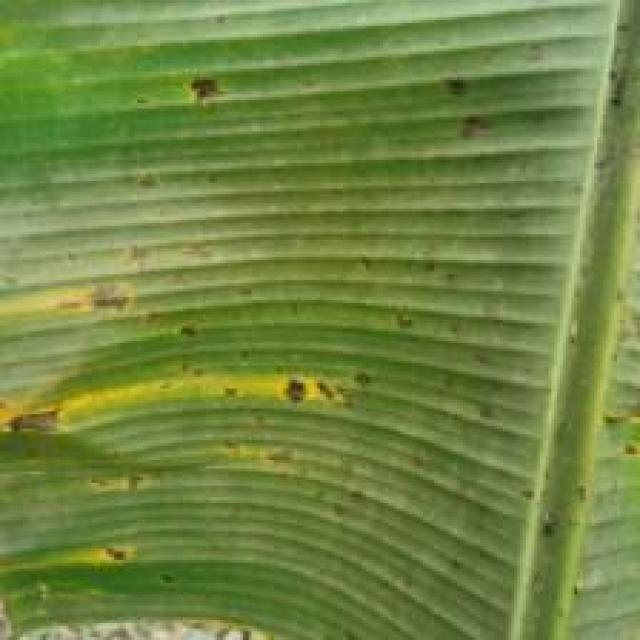Downey_mildrew: (2, 347, 406, 504), (0, 271, 236, 362), (4, 517, 180, 585), (428, 56, 516, 173), (178, 56, 248, 123)
